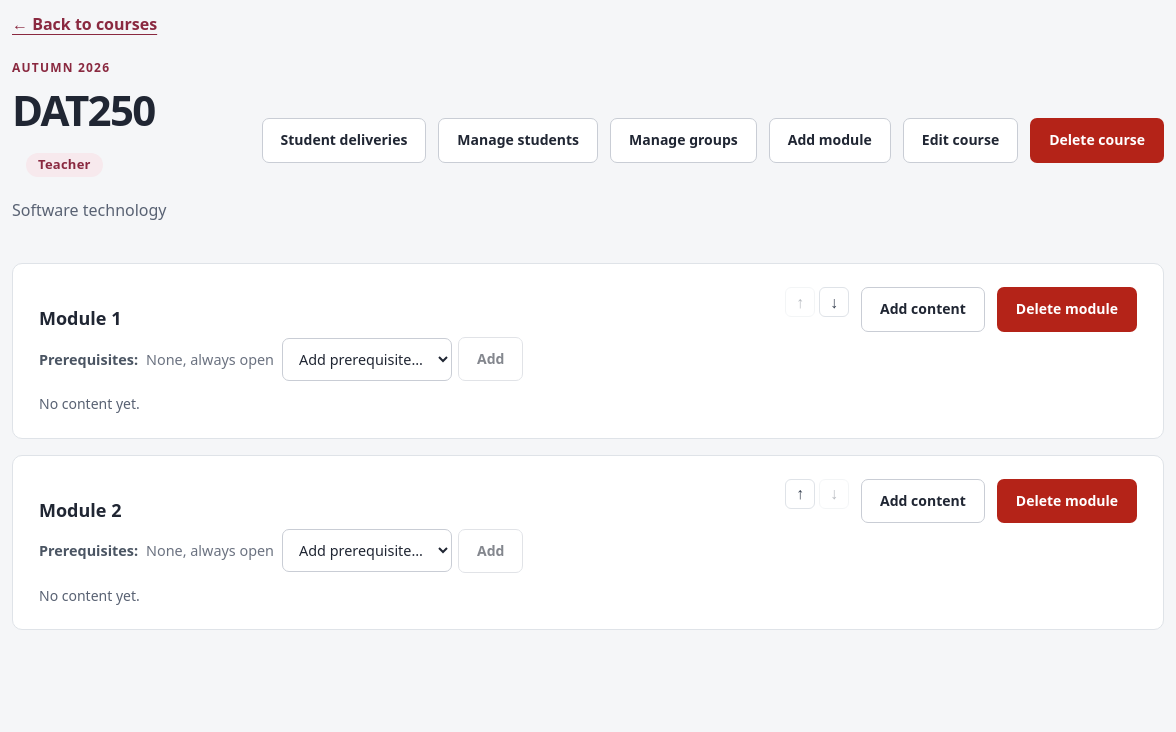
Scenario: CourseDetailPage › updates the modules in place after a reorder, without showing the loading screen
Click the button named "Move Module 1 down".
click(834, 302)  # box top-left (819, 287), bottom-right (849, 317)
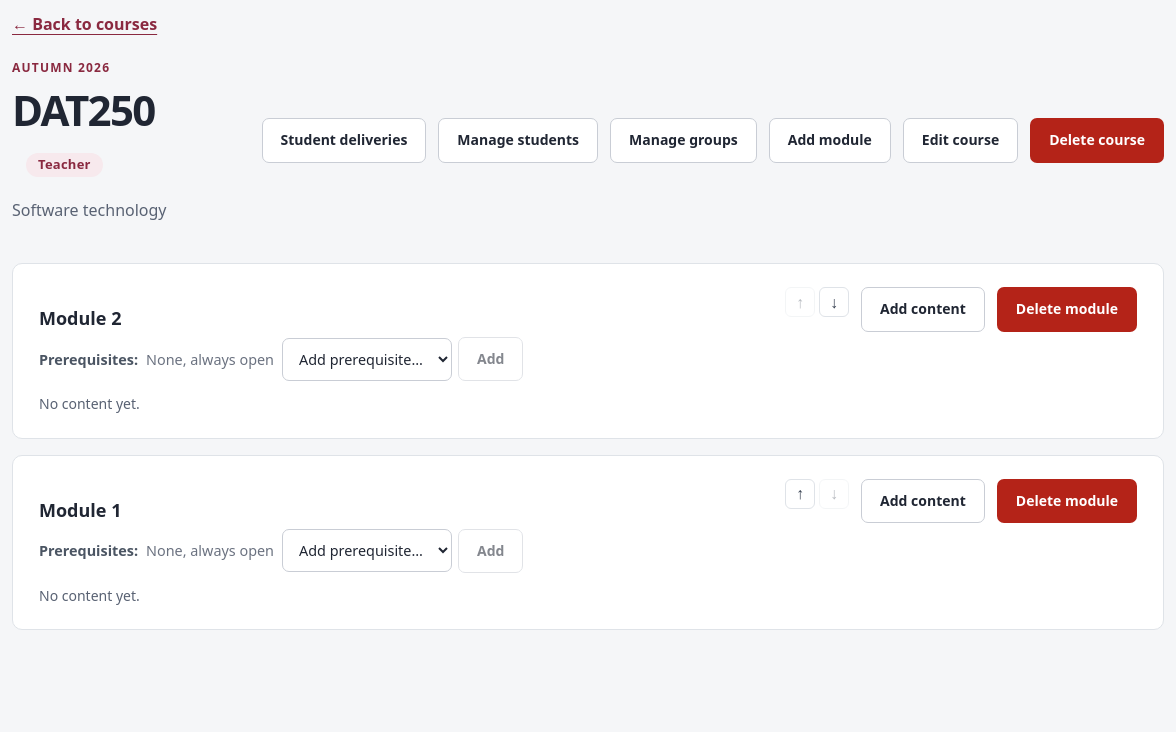
Check: the headings read "Module 2", "Module 1", in this order, box top-left (39, 304), bottom-right (122, 333); top-left (39, 496), bottom-right (122, 524)
